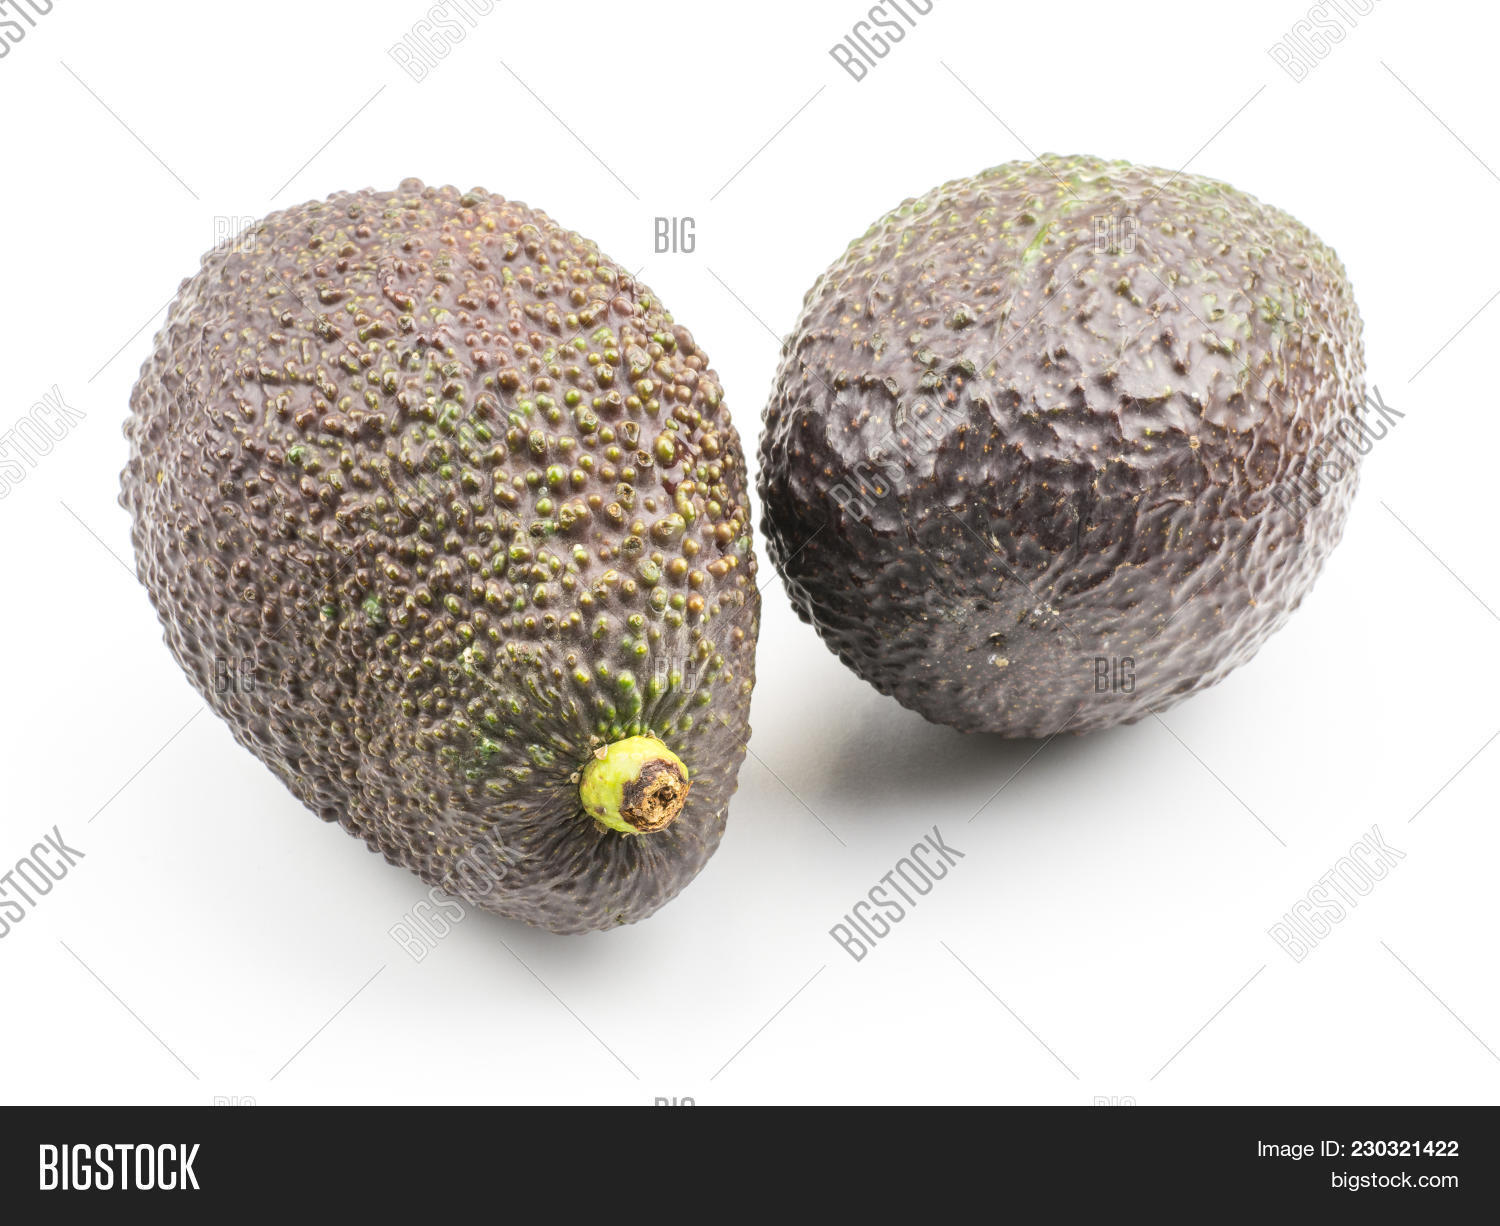fit_avocado: (78, 135, 828, 944), (738, 148, 1441, 846)
